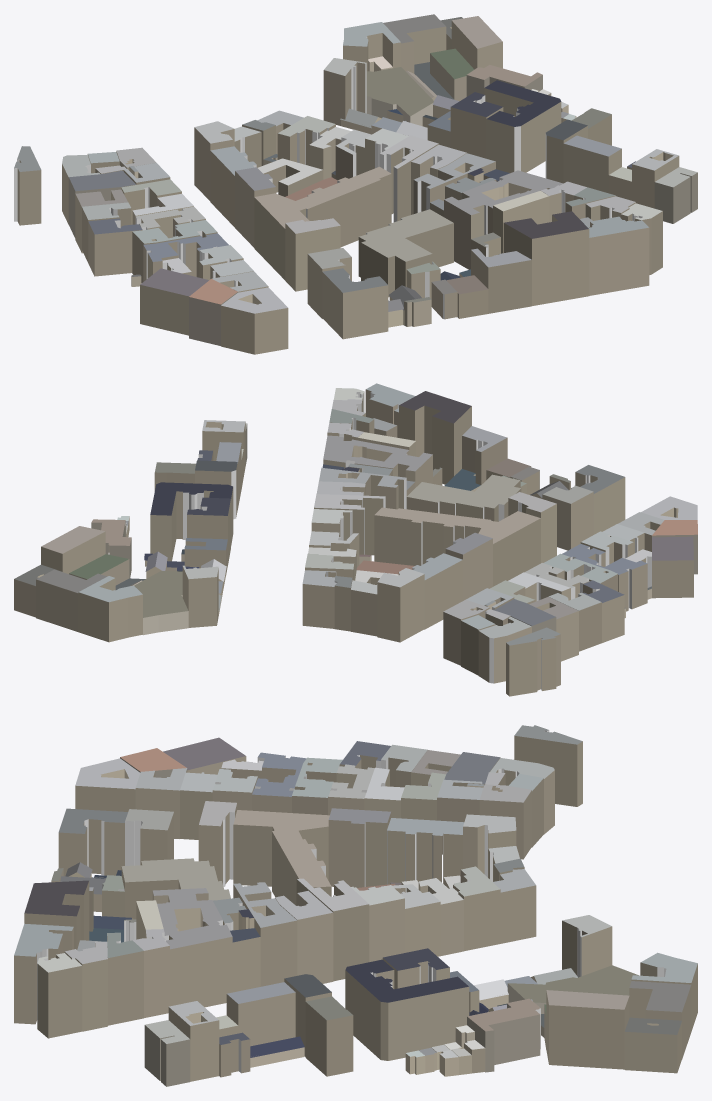
The picture shows the model from 3 angles, top to bottom: view 1: azimuth 30°, elevation 25°; view 2: azimuth 150°, elevation 25°; view 3: azimuth 270°, elevation 25°; orthographic projection. The views are drawn at different scales.
Visible parts, largest first — view 1: tuile; view 2: tuile; view 3: tuile.
Boxes of the visible parts, <box> form: tuile: <box>14,14,697,354</box>; tuile: <box>14,383,697,696</box>; tuile: <box>14,725,697,1086</box>.
Bounding box in the file's own units: 272 × 33.99 × 258.
